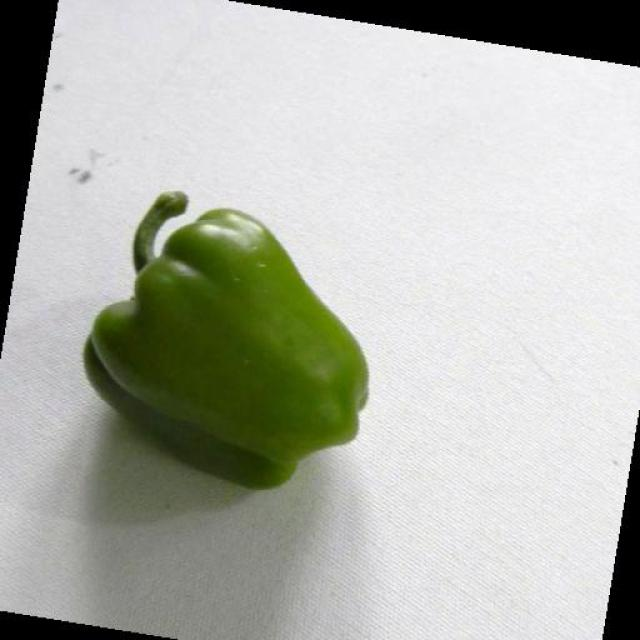Fresh_Capsicum: (120, 184, 393, 484)
